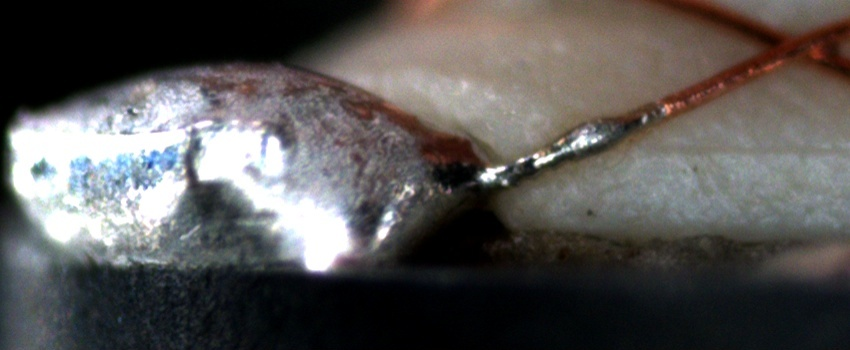CL: (744, 14, 838, 76)
DL: (658, 120, 850, 186)
TB: (556, 115, 634, 166)
TS: (477, 105, 664, 189)
TTCW: (469, 89, 685, 188)
